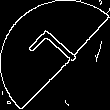L_SE: (25, 27, 85, 83)
